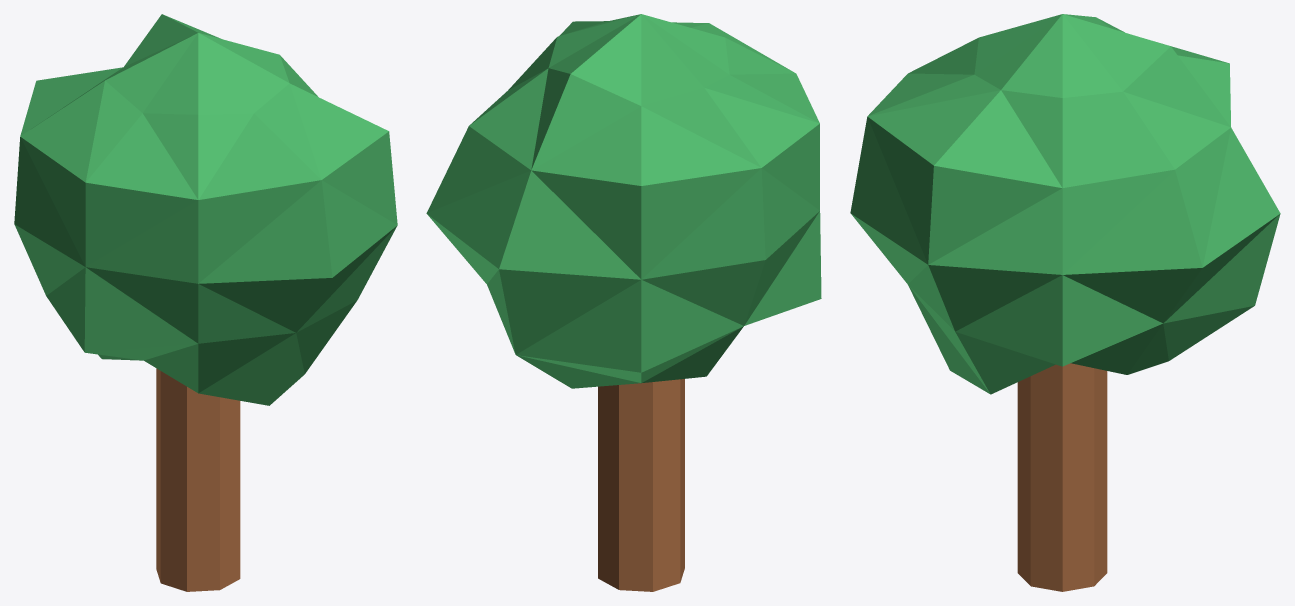
The model's file is tree_round.obj.
3 views of the same model, side by side, from view 1: azimuth 30°, elevation 25°; view 2: azimuth 150°, elevation 25°; view 3: azimuth 270°, elevation 25° (orthographic). The views are drawn at different scales.
Size of the model in its own units: 3.7 by 6.19 by 4.32.
